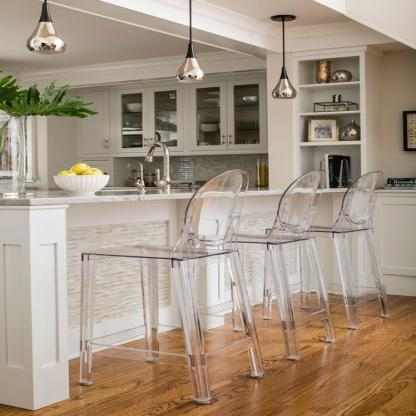chair: (77, 163, 265, 404), (225, 154, 333, 365), (320, 159, 393, 323)
light: (172, 0, 210, 92), (269, 9, 303, 104), (24, 2, 70, 53)
table: (0, 172, 366, 411)
